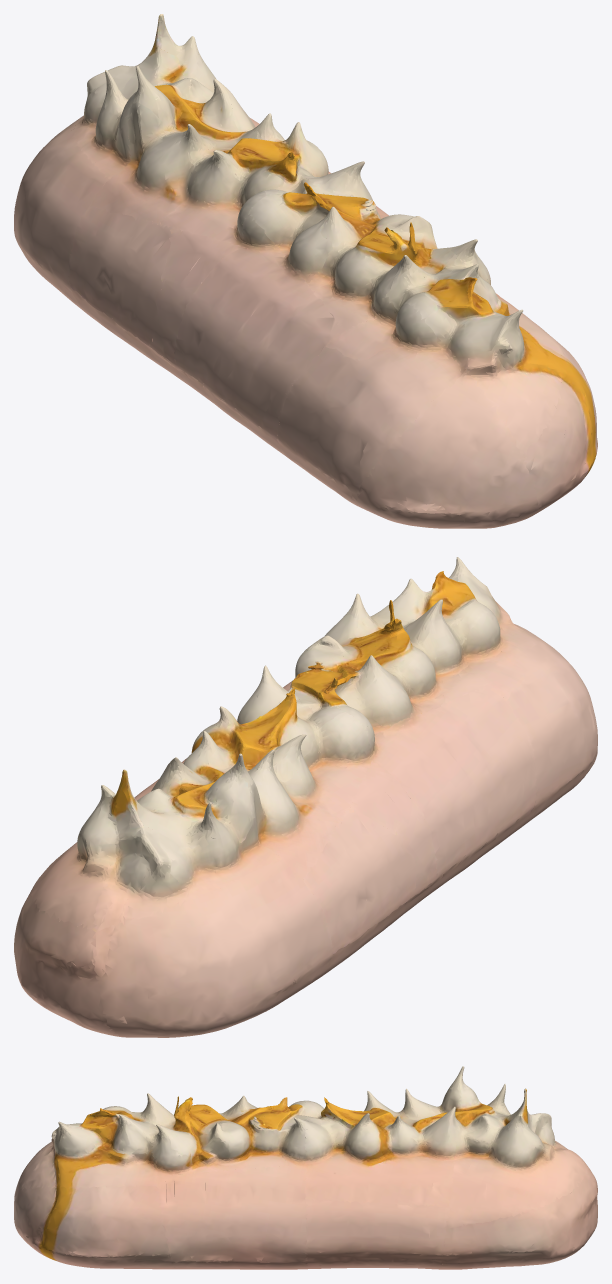
The model's file is 06_5_yellowdot_eclair3_sculpture.glb.
3 views of the same model, one above another, from view 1: azimuth 30°, elevation 25°; view 2: azimuth 150°, elevation 25°; view 3: azimuth 270°, elevation 25° (orthographic). The views are drawn at different scales.
Visible parts, largest first — view 1: exlair3.001; view 2: exlair3.001; view 3: exlair3.001.
Boxes of the visible parts, bbox=[...] form: exlair3.001: bbox=[14, 14, 597, 528]; exlair3.001: bbox=[14, 557, 597, 1037]; exlair3.001: bbox=[14, 1066, 597, 1269].
Bounding box in the file's own units: 0.0439 × 0.039 × 0.125.
1 material, 1 textured.
